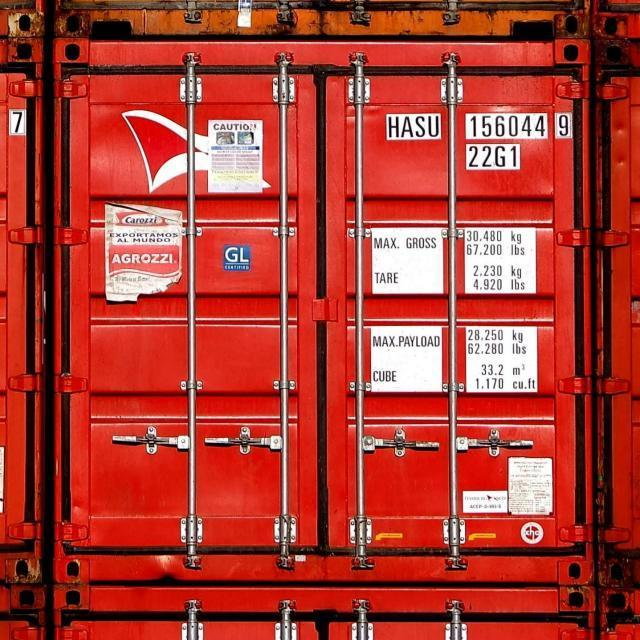ISO: (466, 148, 522, 172)
container_number: (384, 114, 566, 140)
